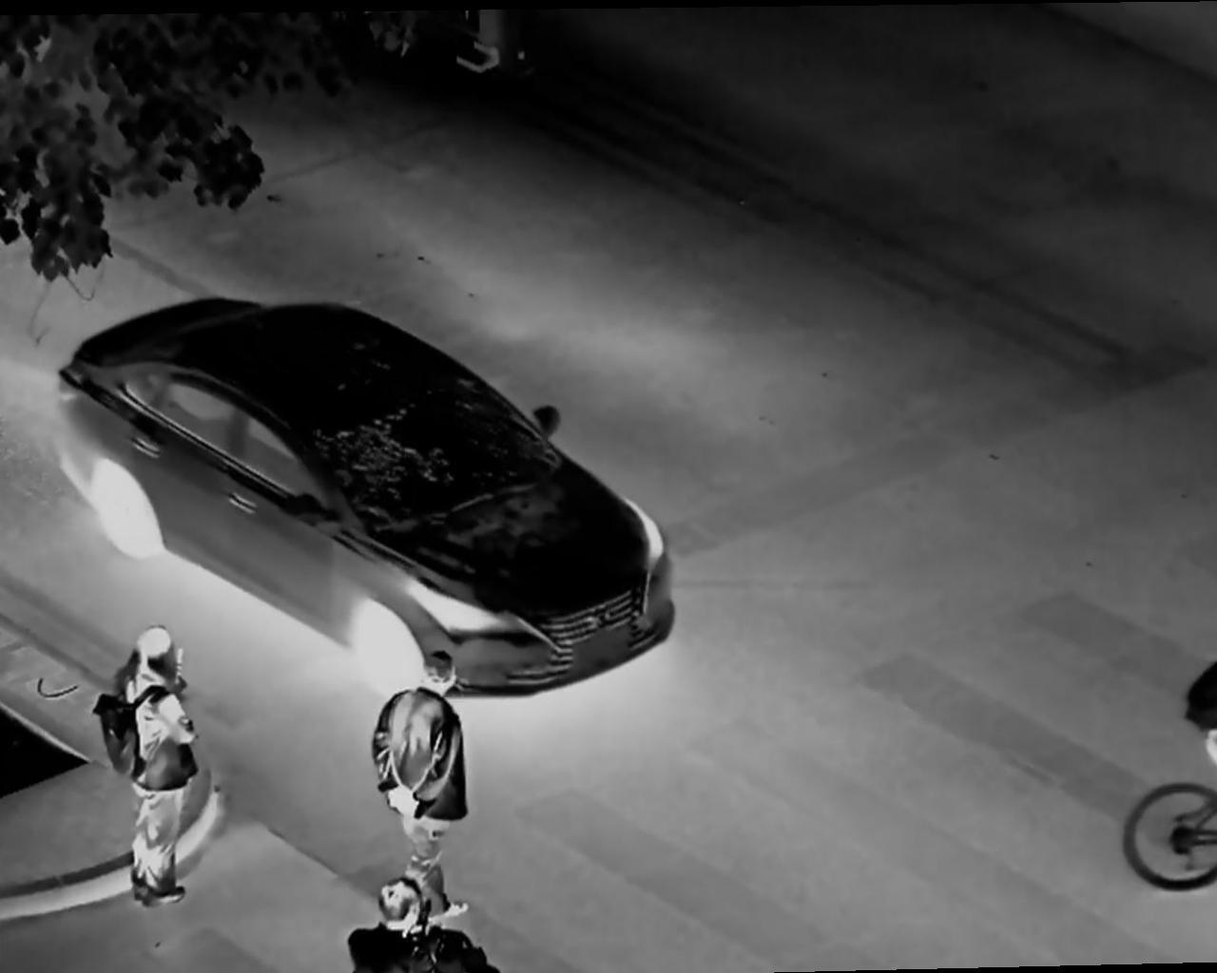person: (91, 623, 207, 915), (373, 647, 476, 910), (346, 873, 459, 973)
